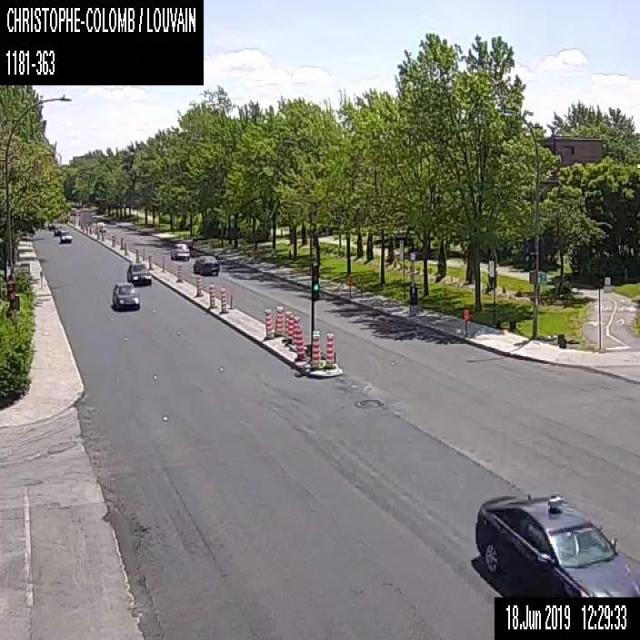construction: (322, 331, 336, 368), (309, 328, 320, 368), (295, 327, 304, 360), (275, 304, 283, 336), (264, 306, 272, 338), (287, 312, 294, 346), (284, 309, 291, 342), (292, 316, 299, 348), (219, 287, 226, 312), (463, 307, 469, 336), (208, 284, 215, 307), (195, 276, 202, 296), (347, 278, 353, 298), (176, 266, 182, 282), (147, 253, 152, 270), (134, 247, 138, 261), (161, 254, 164, 271), (111, 234, 115, 245), (100, 231, 104, 240), (141, 248, 144, 260), (120, 236, 123, 248), (88, 223, 92, 232), (84, 224, 88, 232), (96, 230, 100, 238), (81, 223, 84, 231), (124, 241, 126, 252)
vehicle: (475, 492, 639, 597), (112, 281, 139, 308), (192, 252, 219, 275), (126, 262, 152, 284), (170, 241, 190, 259), (59, 228, 71, 242), (48, 219, 57, 230), (53, 225, 63, 234)
